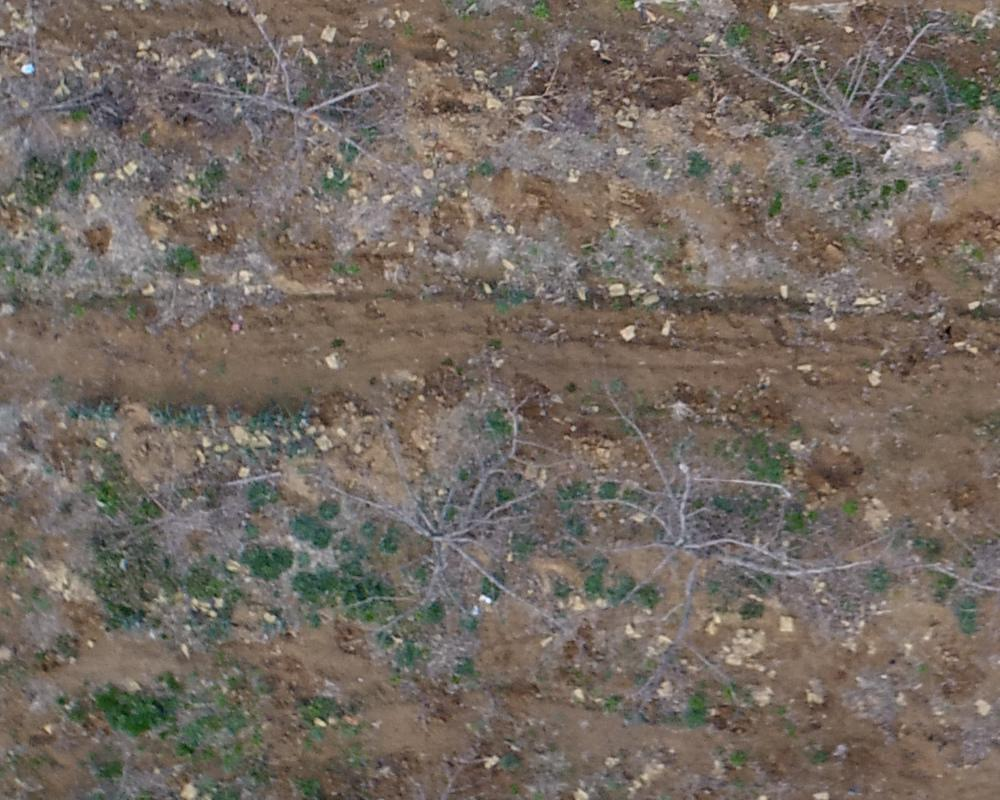apple: (581, 385, 883, 702), (298, 383, 554, 638), (162, 10, 410, 196), (729, 10, 957, 167)
